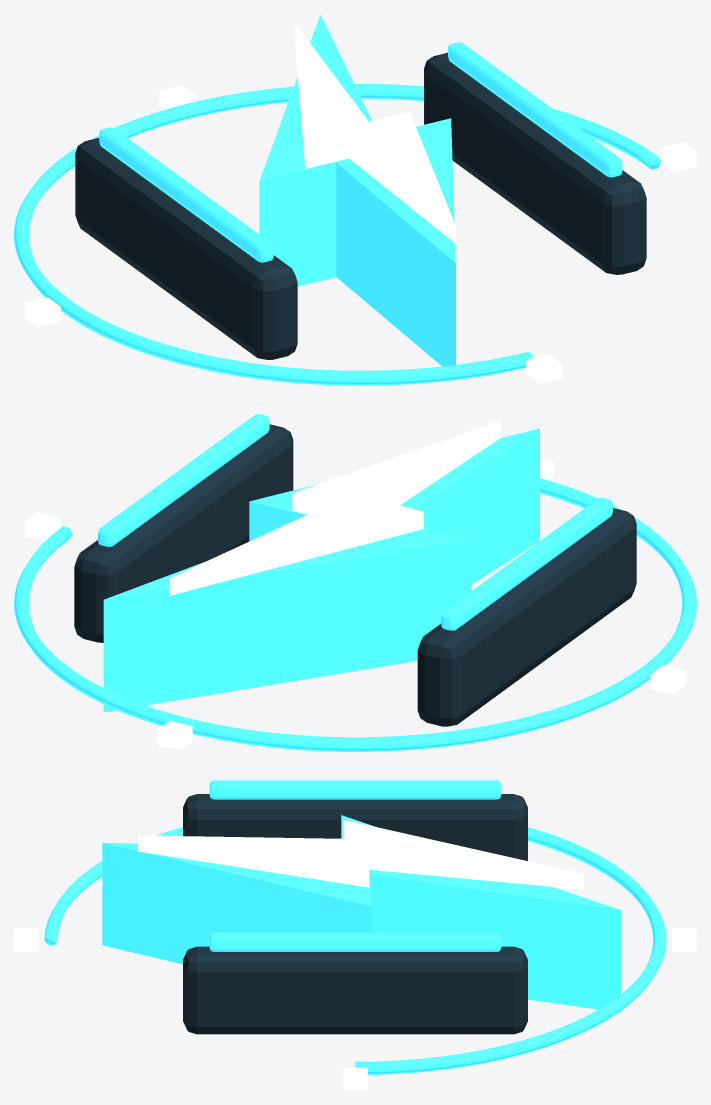
Rendered from laser-collect.glb.
3 views of the same model, one above another, from view 1: azimuth 30°, elevation 25°; view 2: azimuth 150°, elevation 25°; view 3: azimuth 270°, elevation 25° (orthographic). The views are drawn at different scales.
Visible parts, largest first — view 1: laser-collect-pickup-hover.003-PL-blue, laser-collect-pickup-hover.003-PL-metal, laser-collect-pickup-hover.003-PL-white; view 2: laser-collect-pickup-hover.003-PL-blue, laser-collect-pickup-hover.003-PL-metal, laser-collect-pickup-hover.003-PL-white; view 3: laser-collect-pickup-hover.003-PL-blue, laser-collect-pickup-hover.003-PL-metal, laser-collect-pickup-hover.003-PL-white.
Boxes of the visible parts, left/top/right/bottom form: laser-collect-pickup-hover.003-PL-blue: left=14, top=14, right=661, bottom=385; laser-collect-pickup-hover.003-PL-metal: left=75, top=52, right=646, bottom=359; laser-collect-pickup-hover.003-PL-white: left=24, top=23, right=696, bottom=383; laser-collect-pickup-hover.003-PL-blue: left=14, top=414, right=696, bottom=751; laser-collect-pickup-hover.003-PL-metal: left=74, top=424, right=636, bottom=726; laser-collect-pickup-hover.003-PL-white: left=24, top=420, right=686, bottom=750; laser-collect-pickup-hover.003-PL-blue: left=44, top=780, right=666, bottom=1074; laser-collect-pickup-hover.003-PL-metal: left=183, top=794, right=527, bottom=1034; laser-collect-pickup-hover.003-PL-white: left=14, top=819, right=696, bottom=1090.
Size of what is drawn, in the model's own units: 3.86 by 0.74 by 3.86.
